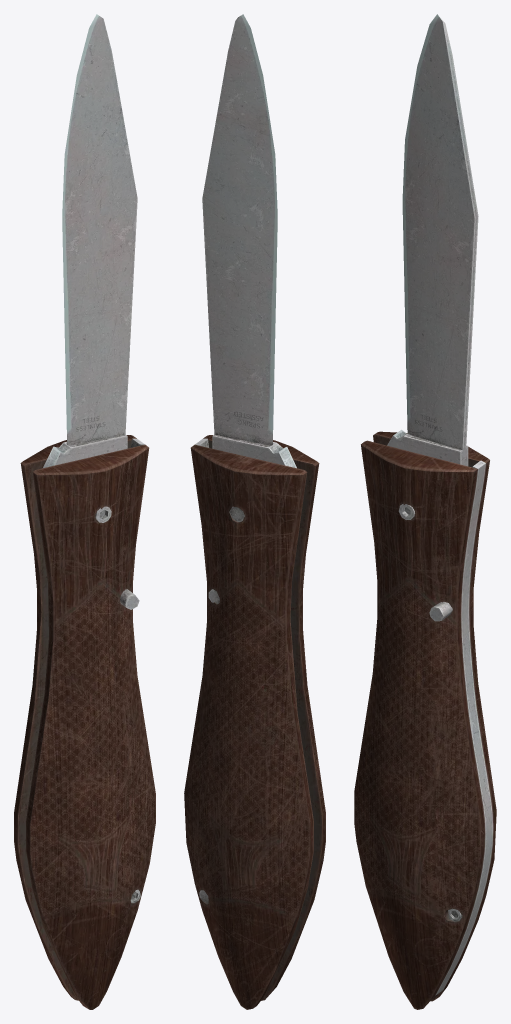
Rendered from fish_knife.glb.
3 views of the same model, side by side, from view 1: azimuth 30°, elevation 25°; view 2: azimuth 150°, elevation 25°; view 3: azimuth 330°, elevation 25° (orthographic).
Visible parts, largest first — view 1: fish_knife_handle; view 2: fish_knife_handle; view 3: fish_knife_handle.
Boxes of the visible parts, x1,y1,x2,y2 form: fish_knife_handle: (14, 14, 155, 1009); fish_knife_handle: (184, 14, 325, 1009); fish_knife_handle: (354, 14, 496, 1009).
Bounding box in the file's own units: 0.0289 × 0.2157 × 0.0161.
1 material, 1 textured.
